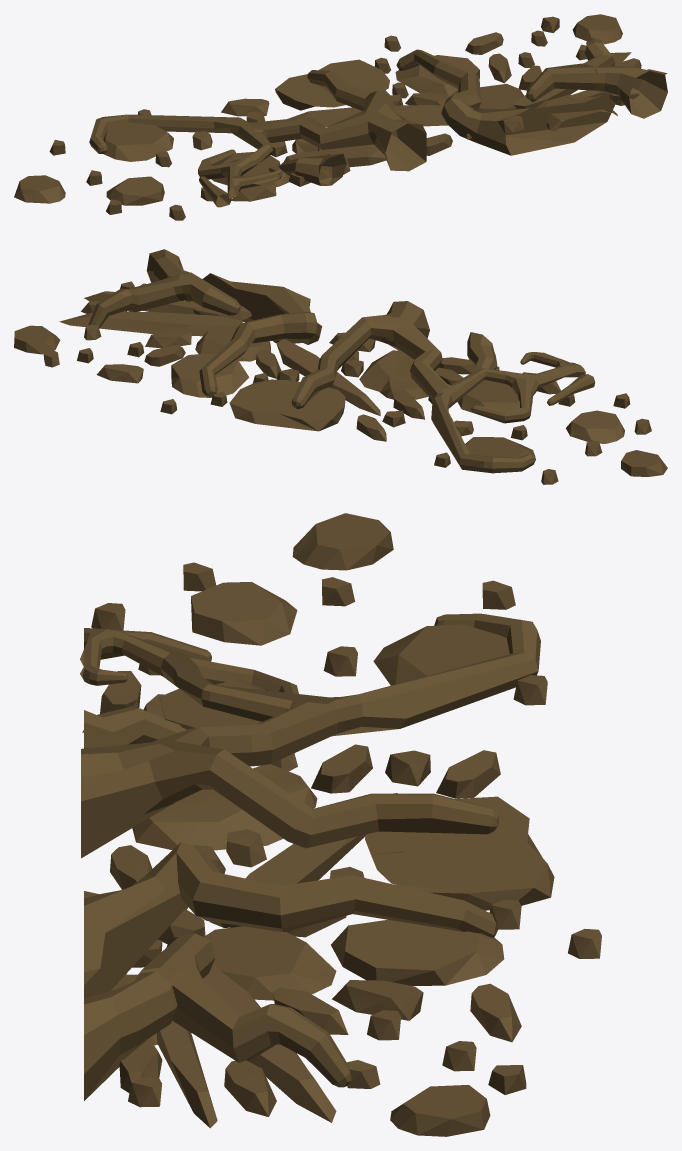
File: EA_Swamp_Dirt_Root_Half_04c.glb
3 views of the same model, one above another, from view 1: azimuth 30°, elevation 25°; view 2: azimuth 150°, elevation 25°; view 3: azimuth 270°, elevation 25° (orthographic). The views are drawn at different scales.
Parts seen in each view (by area): view 1: EA_Swamp_Dirt_Root_Half_04c; view 2: EA_Swamp_Dirt_Root_Half_04c; view 3: EA_Swamp_Dirt_Root_Half_04c.
Boxes of the visible parts, x1,y1,x2,y2 form: EA_Swamp_Dirt_Root_Half_04c: [14, 14, 667, 220]; EA_Swamp_Dirt_Root_Half_04c: [14, 249, 667, 484]; EA_Swamp_Dirt_Root_Half_04c: [80, 513, 601, 1136].
Size of the model in its own units: 8.81 by 0.8866 by 3.19.
1 material, 1 textured.
